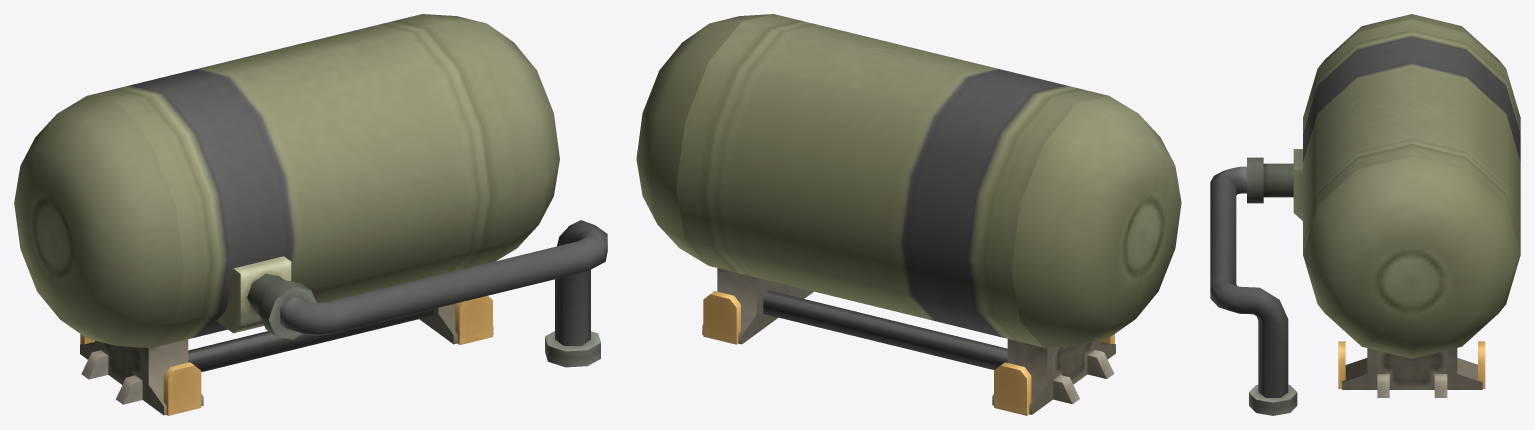
File: Oil_Tank.FBX
3 renders of one model, left to right at view 1: azimuth 30°, elevation 25°; view 2: azimuth 150°, elevation 25°; view 3: azimuth 270°, elevation 25°, orthographic. The views are drawn at different scales.
Visible parts, largest first — view 1: Oil_Tank; view 2: Oil_Tank; view 3: Oil_Tank.
Part boxes in pixels (x1,y1,x2,y2): Oil_Tank: (14, 14, 607, 415); Oil_Tank: (636, 14, 1181, 415); Oil_Tank: (1210, 14, 1520, 415).
Size of the model in its own units: 883 by 507 by 606.
